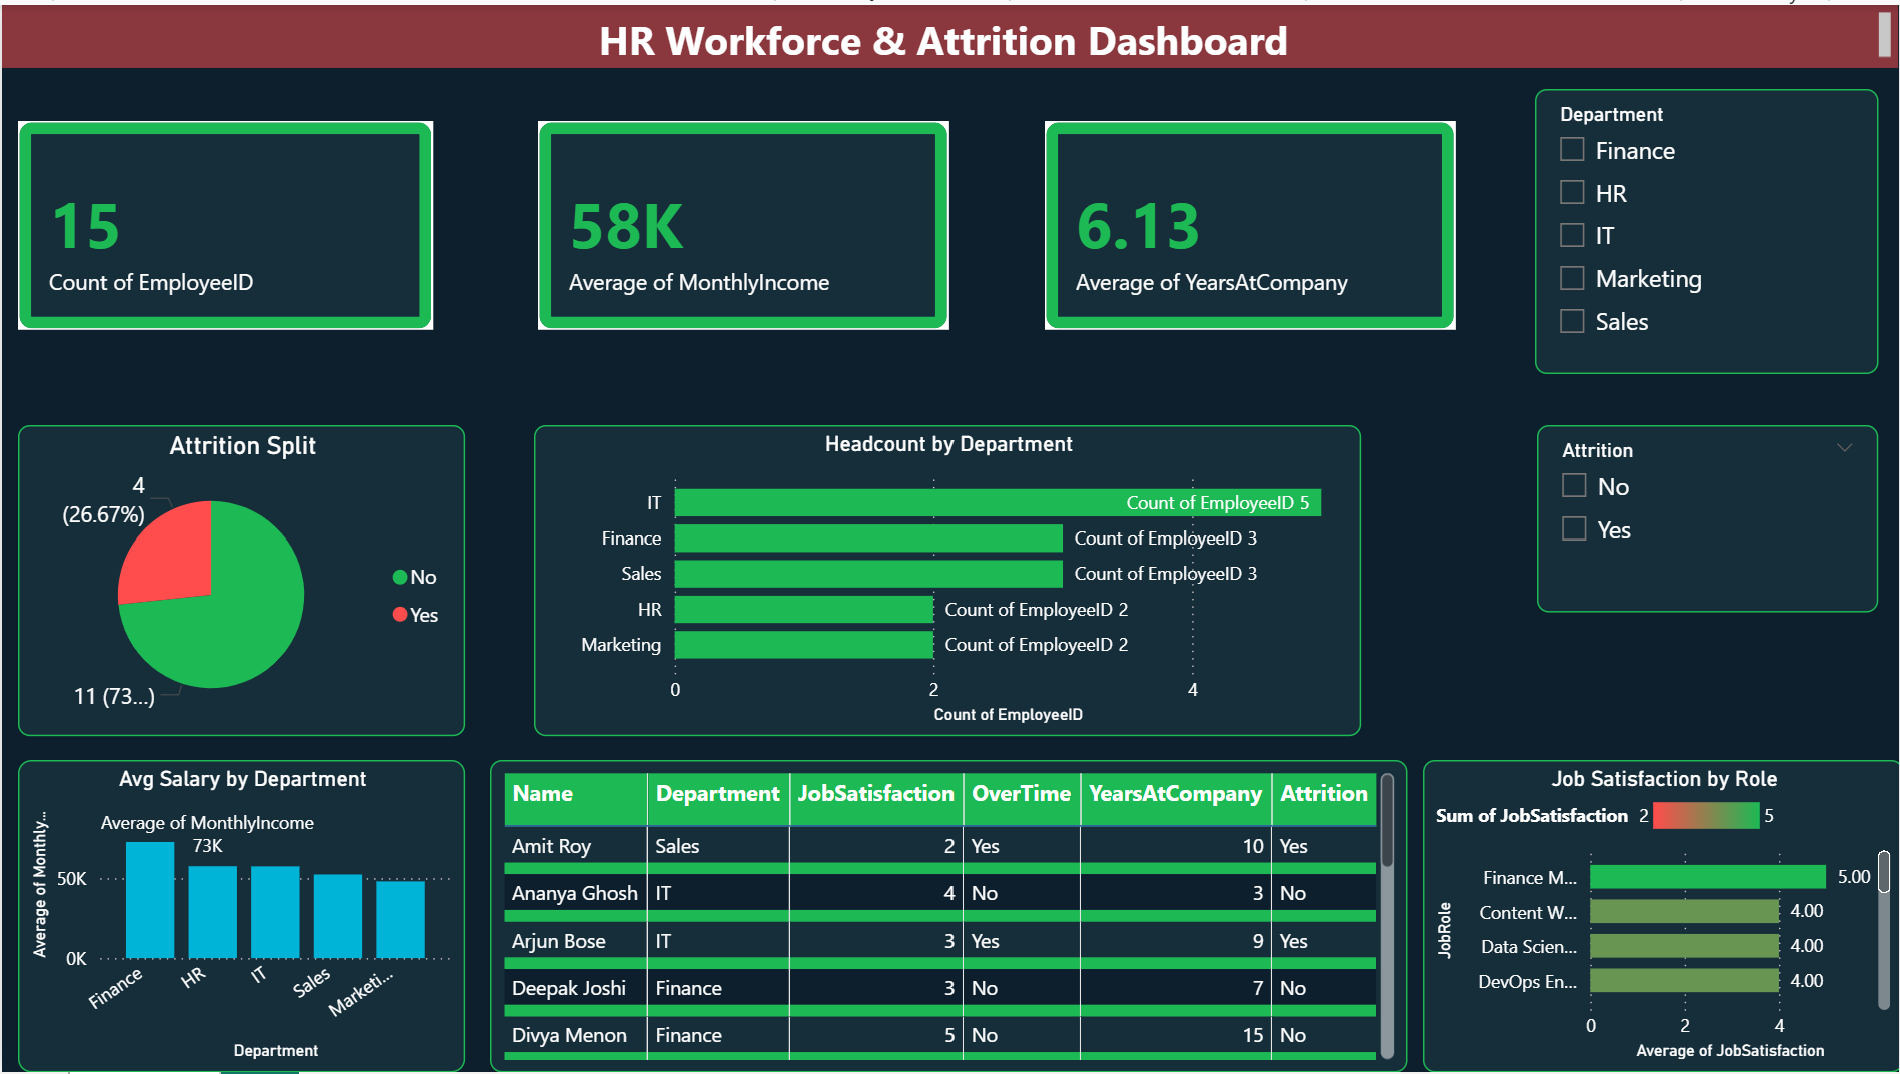

Layout of this report page (visuals, bound fields, positions):
{"tool":"powerbi","page":{"name":"Page 1","canvas":[1280,720],"ordinal":0},"visuals":[{"type":"cardVisual","fields":{"Data":["CountNonNull(sample_hr_data.EmployeeID)"]},"box":[10.6,78.9,280.6,141],"z":0},{"type":"cardVisual","fields":{"Data":["Avg(sample_hr_data.MonthlyIncome)"]},"box":[362.5,78.9,277.5,141],"z":1000},{"type":"cardVisual","fields":{"Data":["Avg(sample_hr_data.YearsAtCompany)"]},"box":[703.7,78.9,277.5,141],"z":2000},{"type":"textbox","box":[0,0,1280,42.5],"z":3000},{"type":"pieChart","title":"Attrition Split","fields":{"Category":["sample_hr_data.Attrition"],"Y":["CountNonNull(sample_hr_data.EmployeeID)"]},"box":[10.6,283.6,301.8,209.3],"z":4000},{"type":"clusteredBarChart","title":"Headcount by Department","fields":{"Category":["sample_hr_data.Department"],"Y":["CountNonNull(sample_hr_data.EmployeeID)"]},"box":[359.4,283.6,558.1,209.3],"z":5000},{"type":"clusteredColumnChart","title":"Avg Salary by Department","fields":{"Category":["sample_hr_data.Department"],"Y":["Avg(sample_hr_data.MonthlyIncome)"]},"box":[10.6,509.6,301.8,210.8],"z":6000},{"type":"clusteredBarChart","title":"Job Satisfaction by Role","fields":{"Category":["sample_hr_data.JobRole"],"Y":["Avg(sample_hr_data.JobSatisfaction)"]},"box":[958.5,509.6,324.5,210.8],"z":7000},{"type":"tableEx","fields":{"Values":["sample_hr_data.Name","sample_hr_data.Department","sample_hr_data.JobSatisfaction","sample_hr_data.OverTime","sample_hr_data.YearsAtCompany","sample_hr_data.Attrition"]},"box":[329.1,509.6,618.8,210.8],"z":8000},{"type":"slicer","fields":{"Values":["sample_hr_data.Department"]},"box":[1034.3,56.1,232,192.6],"z":9000},{"type":"slicer","fields":{"Values":["sample_hr_data.Attrition"]},"box":[1035.8,283.6,230.5,125.9],"z":10000}]}

Visuals, with their boxes in screenshot pixels (x1, y1, x2, y2), scaled from the page's 1280x720 canvas onto the 1900x1074 screenshot:
cardVisual - CountNonNull(sample_hr_data.EmployeeID): (16,118,432,328)
cardVisual - Avg(sample_hr_data.MonthlyIncome): (538,118,950,328)
cardVisual - Avg(sample_hr_data.YearsAtCompany): (1045,118,1456,328)
textbox: (0,0,1899,63)
"Attrition Split" pieChart: (16,423,464,735)
"Headcount by Department" clusteredBarChart: (533,423,1362,735)
"Avg Salary by Department" clusteredColumnChart: (16,760,464,1073)
"Job Satisfaction by Role" clusteredBarChart: (1423,760,1899,1073)
tableEx - sample_hr_data.Name x sample_hr_data.Department: (489,760,1407,1073)
slicer - sample_hr_data.Department: (1535,84,1880,371)
slicer - sample_hr_data.Attrition: (1538,423,1880,611)
